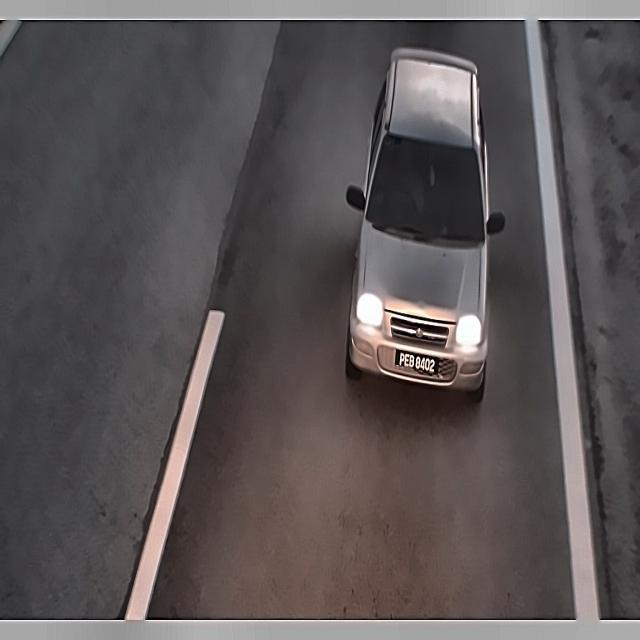car: (390, 346, 447, 381)
